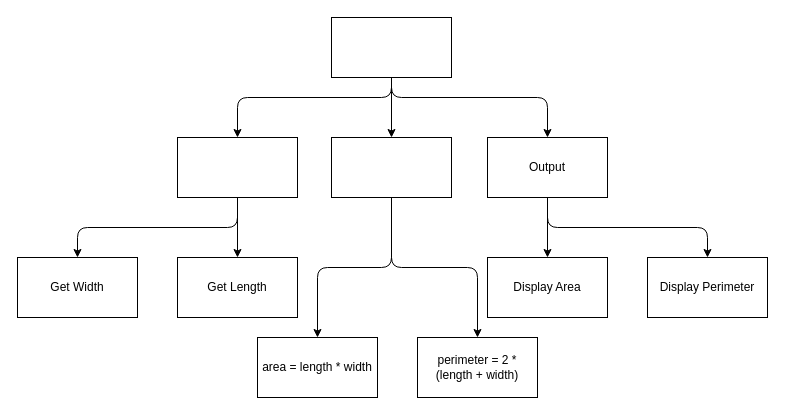
This 785x415 diagram has some shape labels left out. The shapes that lost their labels are listed below. From the top down, each one's centre as x and y in pixels, then its label:
(x=391, y=47): Area and Perimeter of Rectangle
(x=237, y=167): Input
(x=391, y=167): Process
